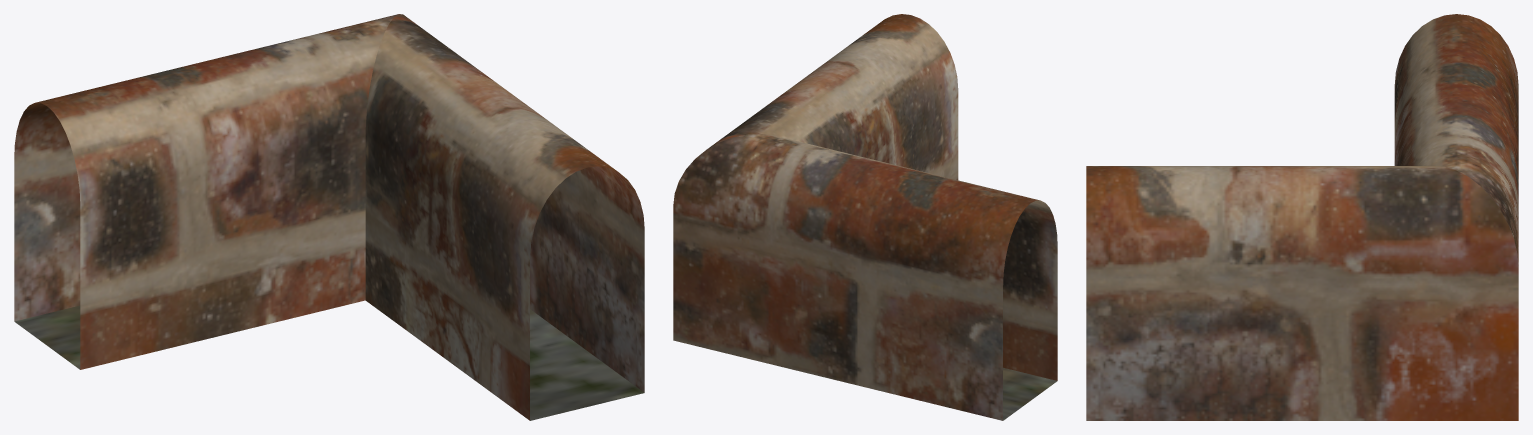
The model's file is tunnel intersection L left.fbx.
The picture shows the model from 3 angles, left to right: view 1: azimuth 30°, elevation 25°; view 2: azimuth 150°, elevation 25°; view 3: azimuth 270°, elevation 25°; orthographic projection. The views are drawn at different scales.
Parts seen in each view (by area): view 1: tunnel intersection 6m L left, tunnel floor intersection 6m L left; view 2: tunnel intersection 6m L left, tunnel floor intersection 6m L left; view 3: tunnel intersection 6m L left.
Part boxes in pixels (x1,y1,x2,y2): tunnel intersection 6m L left: [14, 14, 644, 420]; tunnel floor intersection 6m L left: [14, 305, 644, 420]; tunnel intersection 6m L left: [673, 14, 1057, 420]; tunnel floor intersection 6m L left: [1003, 367, 1057, 420]; tunnel intersection 6m L left: [1086, 14, 1518, 420].
Bounding box in the file's own units: 350 × 350 × 200.
